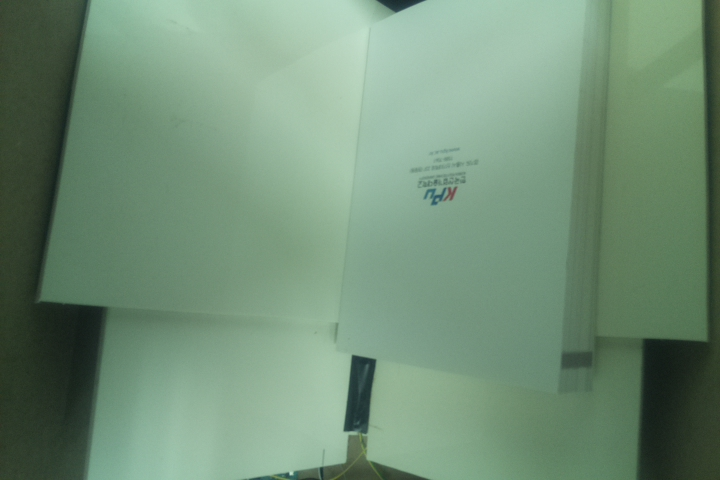book: (335, 1, 620, 395)
